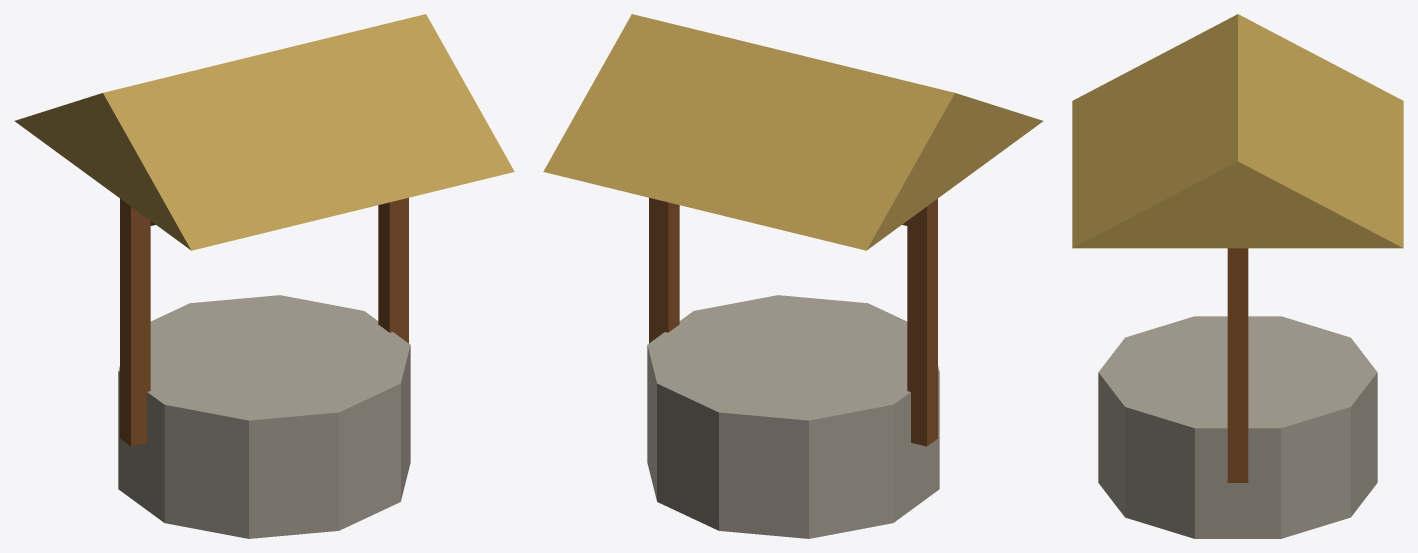
Rendered from well.glb.
The picture shows the model from 3 angles, left to right: view 1: azimuth 30°, elevation 25°; view 2: azimuth 150°, elevation 25°; view 3: azimuth 270°, elevation 25°; orthographic projection. The views are drawn at different scales.
Visible parts, largest first — view 1: well; view 2: well; view 3: well.
Boxes of the visible parts, x1,y1,x2,y2 form: well: (14,14,514,538); well: (543,14,1043,538); well: (1072,14,1403,538).
Bounding box in the file's own units: 2 × 2.5 × 1.9.
